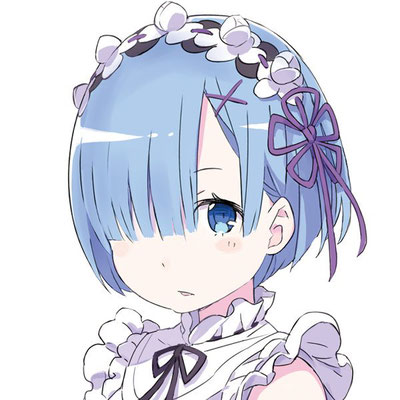rem: (66, 9, 356, 400)
